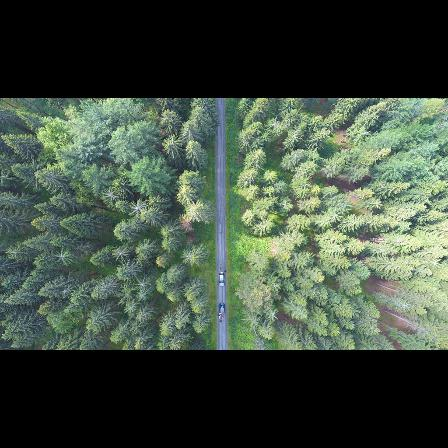Sick: (110, 244, 134, 262), (129, 196, 146, 218), (133, 274, 154, 291), (53, 248, 71, 266), (101, 186, 120, 203), (179, 246, 195, 266), (264, 307, 279, 325), (122, 300, 138, 315), (330, 208, 343, 224), (136, 290, 149, 301)
